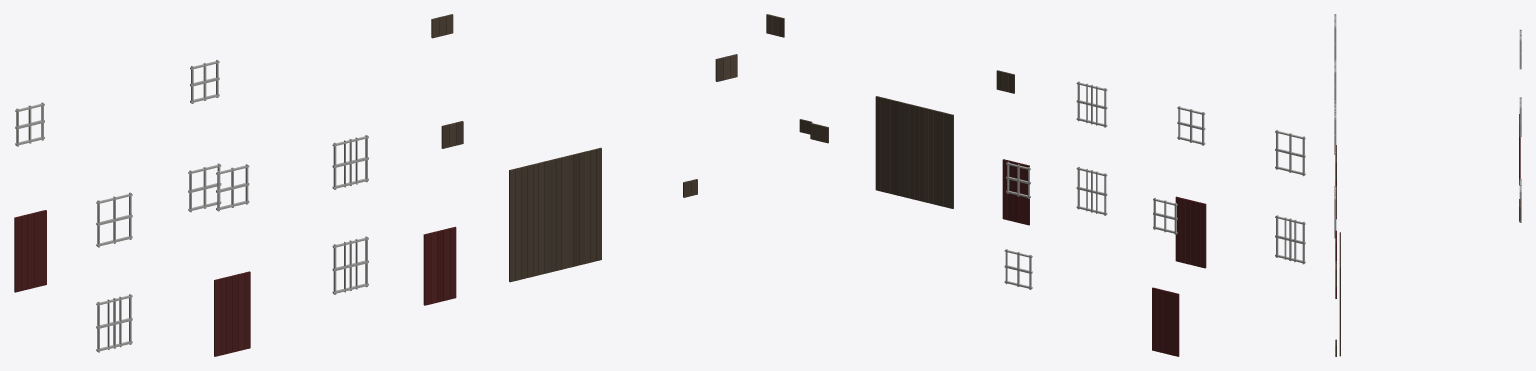
File: SM_Bld_056_Wood.glb
The picture shows the model from 3 angles, left to right: view 1: azimuth 30°, elevation 25°; view 2: azimuth 150°, elevation 25°; view 3: azimuth 270°, elevation 25°; orthographic projection. The views are drawn at different scales.
Parts seen in each view (by area): view 1: SM_Bld_056_Wood; view 2: SM_Bld_056_Wood; view 3: SM_Bld_056_Wood.
Boxes of the visible parts, <box> form: SM_Bld_056_Wood: <box>14,14,737,356</box>; SM_Bld_056_Wood: <box>766,14,1305,356</box>; SM_Bld_056_Wood: <box>1334,14,1521,356</box>.
Bounding box in the file's own units: 18.04 × 4.96 × 5.75.
